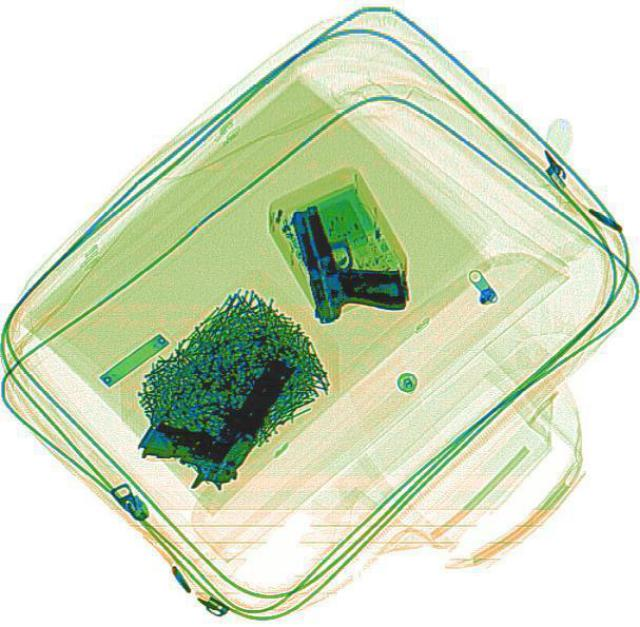Gun: (129, 325, 301, 502), (282, 188, 410, 327)
